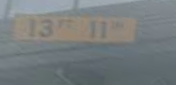1: (85, 18, 97, 41), (27, 16, 37, 39)
2: (97, 20, 110, 40)
3: (39, 17, 53, 39)
overheadsign: (13, 12, 137, 45)
